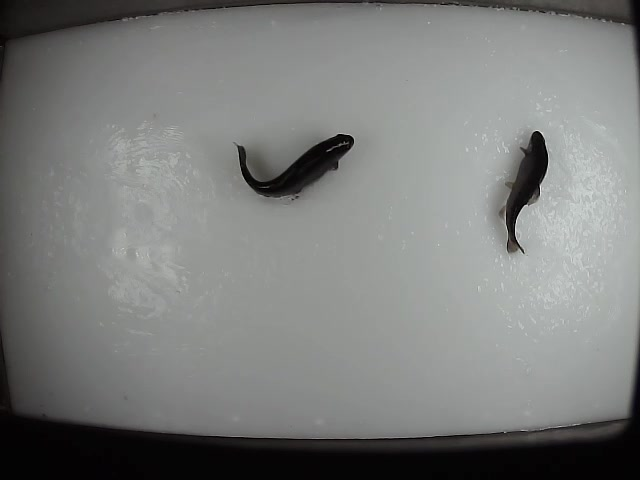fish: (232, 130, 356, 201), (495, 130, 557, 255)
